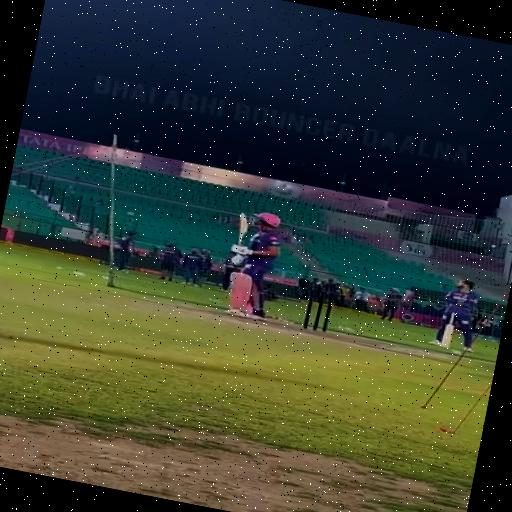Cricket bat: (240, 212, 248, 244)
